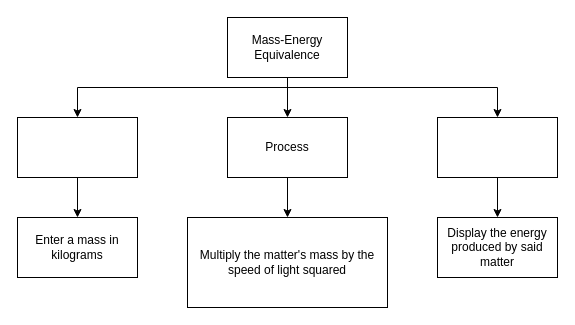
This 575x325 diagram has some shape labels left out. Each missing label, with the centre of its shape:
"Input" belongs at point (77, 147).
"Output" belongs at point (497, 147).
